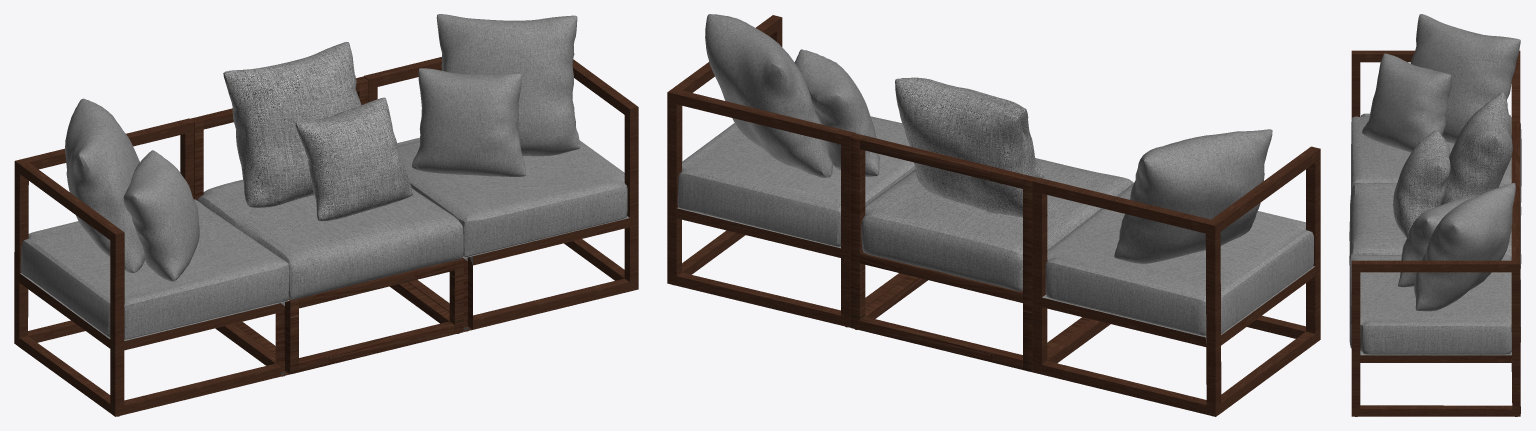
The picture shows the model from 3 angles, left to right: view 1: azimuth 30°, elevation 25°; view 2: azimuth 150°, elevation 25°; view 3: azimuth 270°, elevation 25°; orthographic projection. The views are drawn at different scales.
Parts seen in each view (by area): view 1: C-skp361.001, C-skp361, C-skp6C16; view 2: C-skp361.001, C-skp361, C-skp6C16; view 3: C-skp361, C-skp361.001, C-skp6C16.
Boxes of the visible parts, box(x1,y1,x2,y2) form: C-skp361.001: box(14, 98, 289, 416); C-skp361: box(363, 14, 638, 331); C-skp6C16: box(190, 42, 463, 374); C-skp361.001: box(1032, 129, 1320, 416); C-skp361: box(667, 14, 915, 327); C-skp6C16: box(850, 77, 1133, 371); C-skp361: box(1349, 183, 1520, 416); C-skp361.001: box(1351, 14, 1521, 202); C-skp6C16: box(1349, 92, 1521, 268).
Bounding box in the file's own units: 1.89 × 0.8148 × 0.6434.
3 materials, 2 textured.
